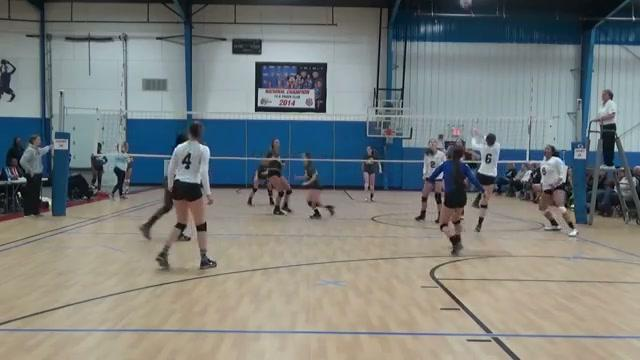ball: (457, 0, 474, 8)
